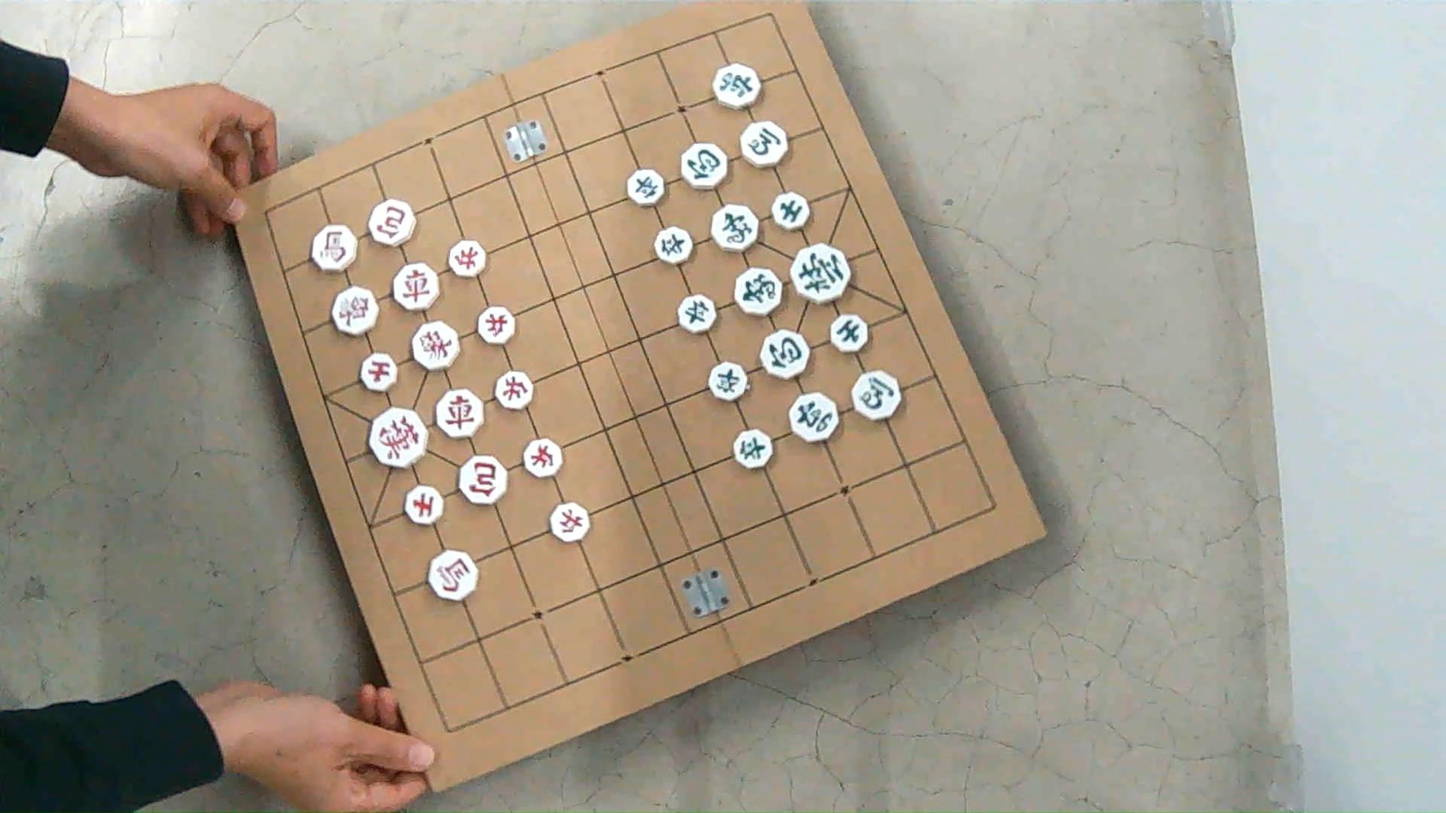cha_green: (791, 393, 839, 441), (713, 64, 760, 109)
cha_red: (435, 389, 483, 438), (392, 263, 440, 310)
jol_green: (734, 430, 773, 469), (709, 362, 748, 400), (654, 227, 693, 263), (627, 169, 664, 206), (679, 295, 715, 333)
jol_red: (550, 503, 590, 542), (495, 370, 534, 410), (522, 438, 562, 477), (447, 239, 487, 277), (477, 306, 515, 345)
ma_green: (852, 370, 901, 420), (740, 121, 787, 167)
ma_red: (429, 550, 478, 600), (310, 224, 358, 272)
po_green: (761, 330, 810, 379), (682, 143, 728, 189)
po_red: (459, 455, 507, 504), (368, 199, 416, 246)
sa_green: (830, 314, 867, 353), (772, 192, 809, 230)
sa_red: (404, 486, 443, 525), (360, 353, 397, 391)
sang_green: (735, 268, 782, 315), (712, 205, 759, 251)
sang_red: (411, 321, 459, 370), (331, 287, 377, 335)
wang_green: (791, 244, 850, 303)
wang_red: (369, 407, 428, 467)
